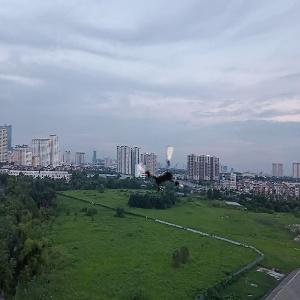drone: (137, 144, 192, 199)
